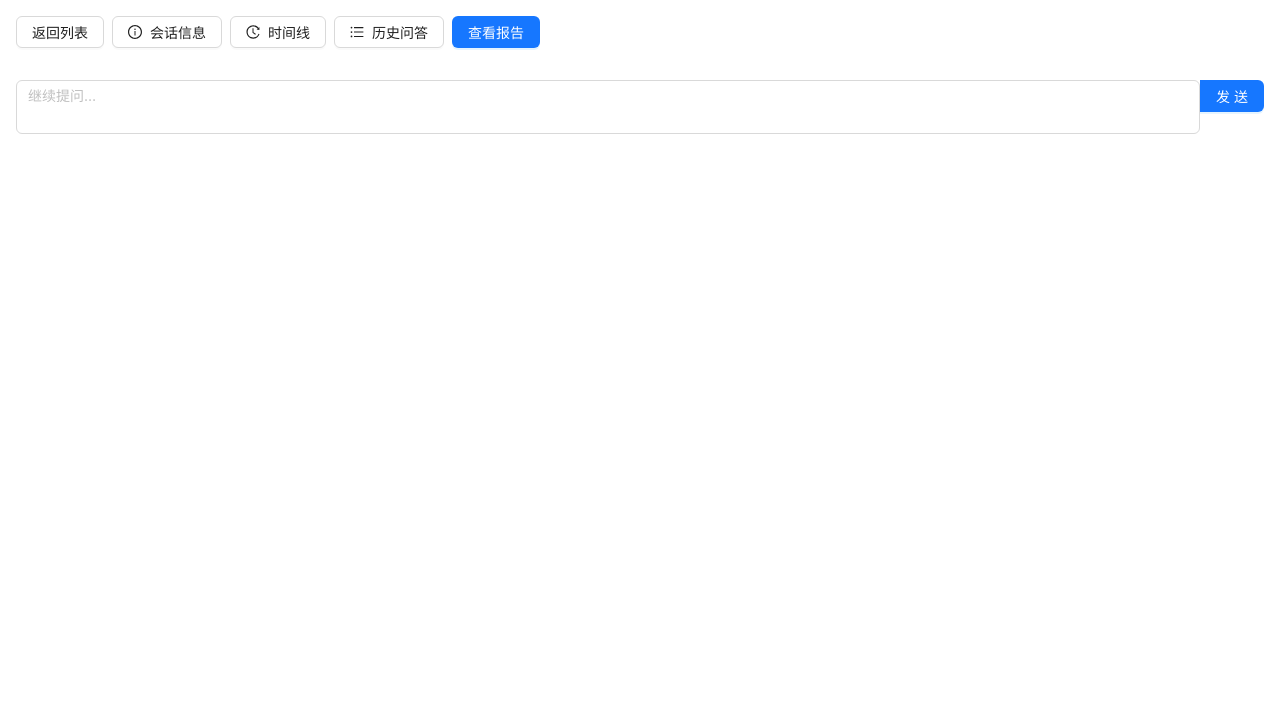
ResearchSessionPage › header 不直接渲染长标题，点会话信息按钮打开右侧 Drawer 展示完整标题
Expected: the text "分步分析：今年采购订单的一个趋势情况，从基地、供应商、物料等几个维度给出结论" is not shown
Click the button "会话信息" at (167, 32), box top-left (112, 16), bottom-right (222, 48)
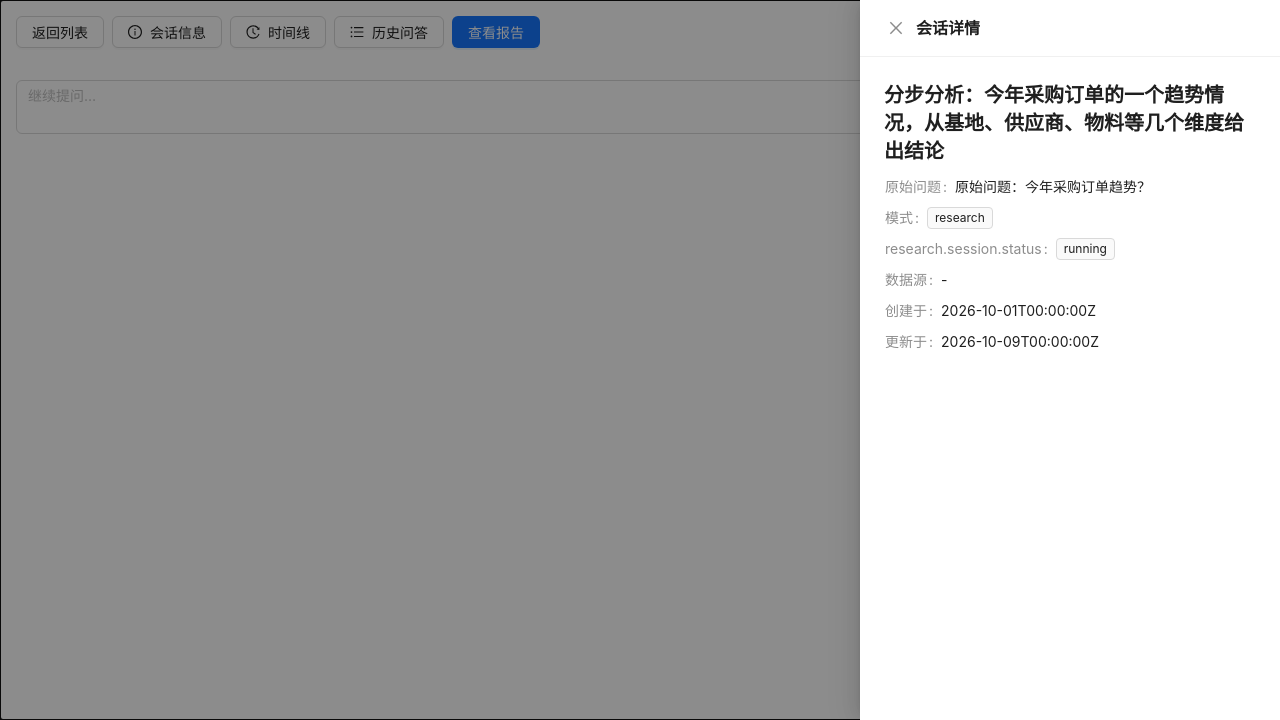
Expected: the heading "分步分析：今年采购订单的一个趋势情况，从基地、供应商、物料等几个维度给出结论" is shown, top-left (884, 81), bottom-right (1256, 165)
Expected: the text "原始问题：今年采购订单趋势？" is shown, top-left (955, 176), bottom-right (1151, 198)
